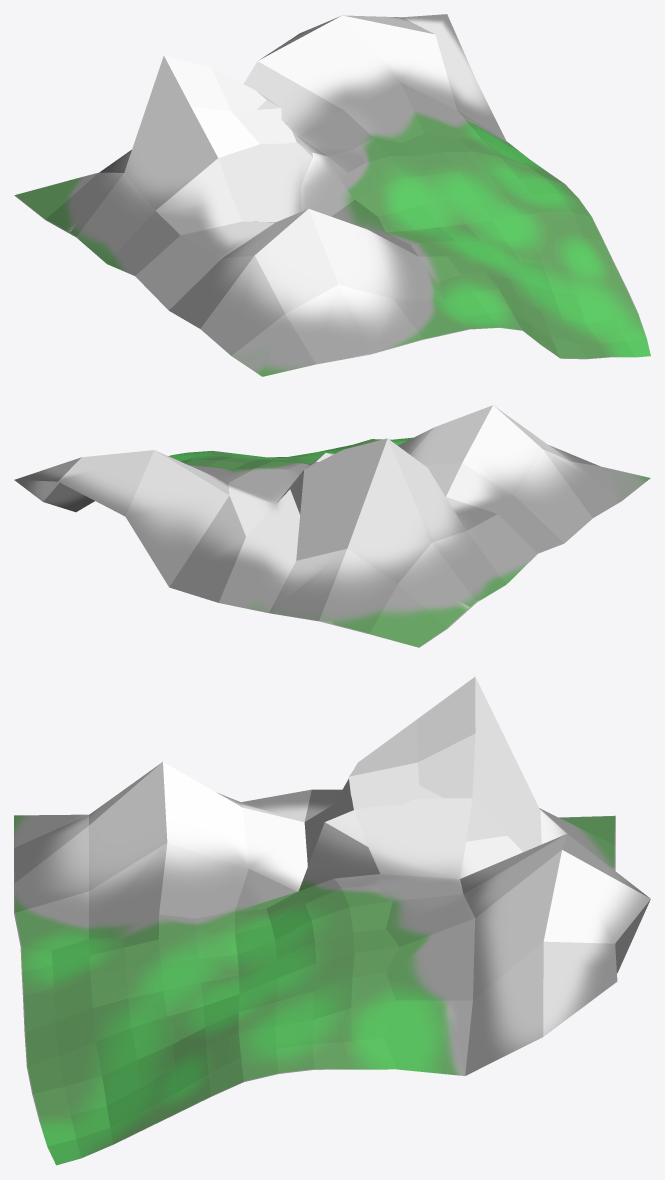
3 views of the same model, one above another, from view 1: azimuth 30°, elevation 25°; view 2: azimuth 150°, elevation 25°; view 3: azimuth 270°, elevation 25° (orthographic). The views are drawn at different scales.
Visible parts, largest first — view 1: Plan; view 2: Plan; view 3: Plan.
Part boxes in pixels (x1=…): Plan: x1=14, y1=14, x2=650, y2=376; Plan: x1=14, y1=405, x2=650, y2=647; Plan: x1=14, y1=676, x2=650, y2=1165.
Bounding box in the file's own units: 2.03 × 1.11 × 2.12.
Materials: 1 (1 with a texture image).
